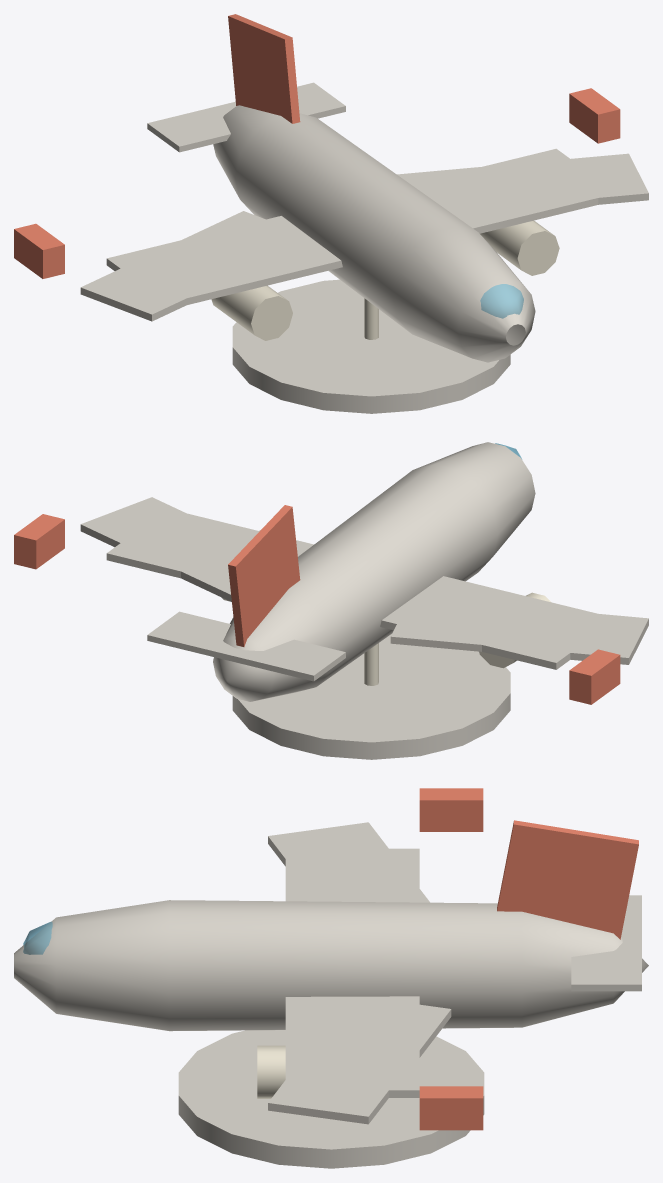
The model's file is lod_airplane_deco.glb.
3 renders of one model, top to bottom at view 1: azimuth 30°, elevation 25°; view 2: azimuth 150°, elevation 25°; view 3: azimuth 270°, elevation 25°, orthographic. The views are drawn at different scales.
Parts seen in each view (by area): view 1: lod_airplane_deco; view 2: lod_airplane_deco; view 3: lod_airplane_deco.
Boxes of the visible parts, <box> form: lod_airplane_deco: <box>14,14,648,413</box>; lod_airplane_deco: <box>14,442,648,759</box>; lod_airplane_deco: <box>14,788,648,1168</box>.
Size of the model in its own units: 10.4 by 4.39 by 9.
